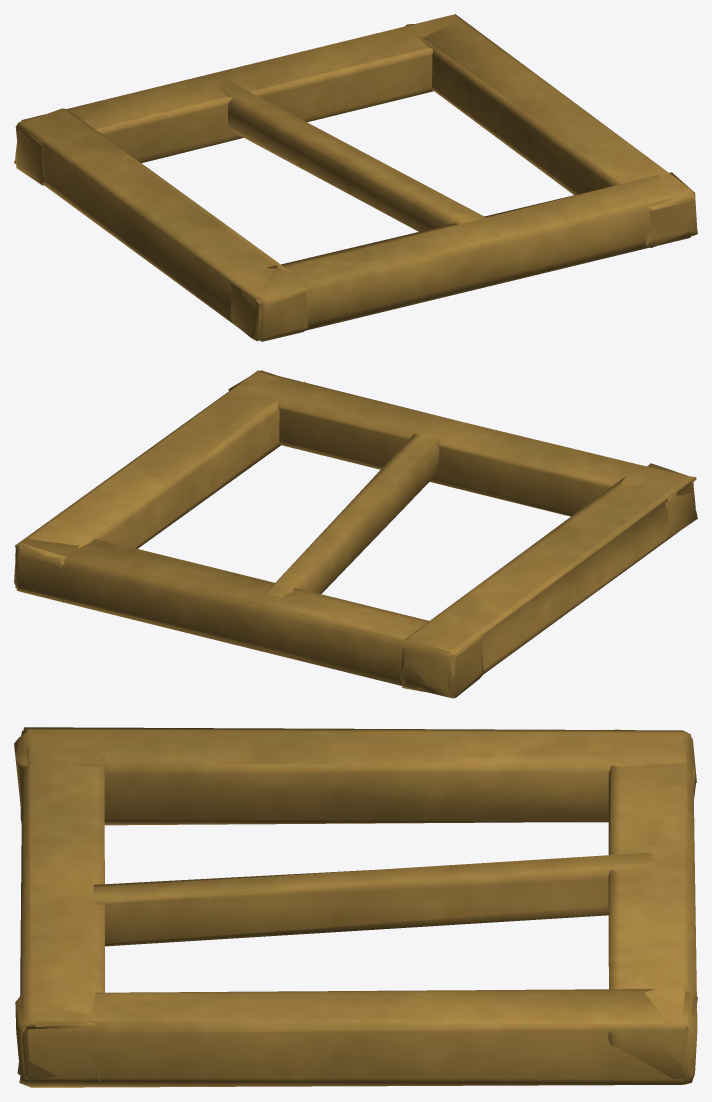
3 renders of one model, top to bottom at view 1: azimuth 30°, elevation 25°; view 2: azimuth 150°, elevation 25°; view 3: azimuth 270°, elevation 25°, orthographic. The views are drawn at different scales.
Parts seen in each view (by area): view 1: schnalle; view 2: schnalle; view 3: schnalle.
Boxes of the visible parts, x1=… form: schnalle: x1=14, y1=14, x2=697, y2=341; schnalle: x1=14, y1=370, x2=697, y2=698; schnalle: x1=14, y1=727, x2=697, y2=1087.
Bounding box in the file's own units: 0.0507 × 0.00561 × 0.0488.
Materials: 1 (1 with a texture image).
